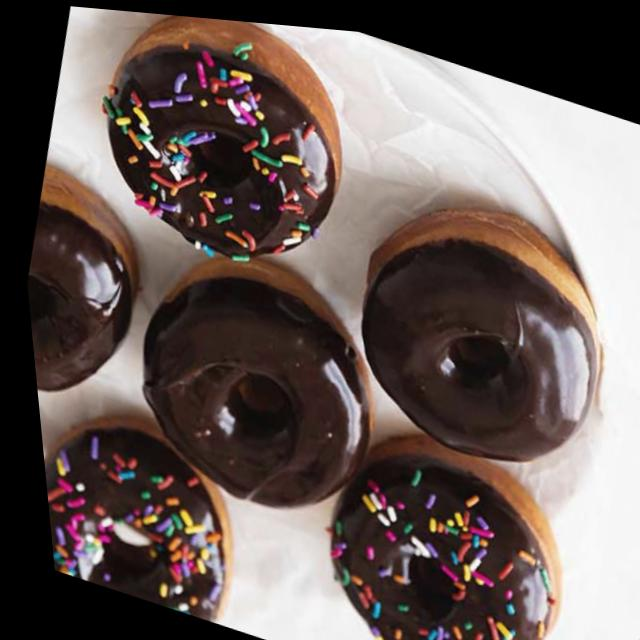donut: (318, 162, 636, 491), (97, 219, 404, 537), (61, 4, 379, 298), (284, 401, 585, 640), (29, 389, 254, 626), (12, 154, 172, 426)
